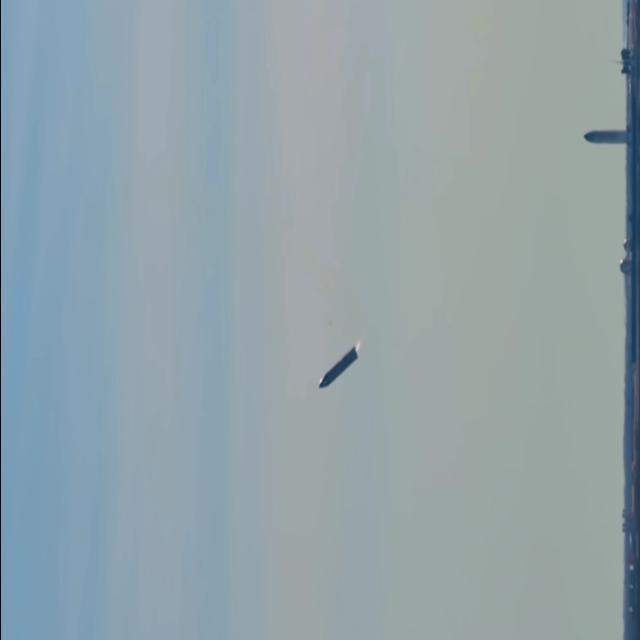Missile: (314, 345, 360, 393)
